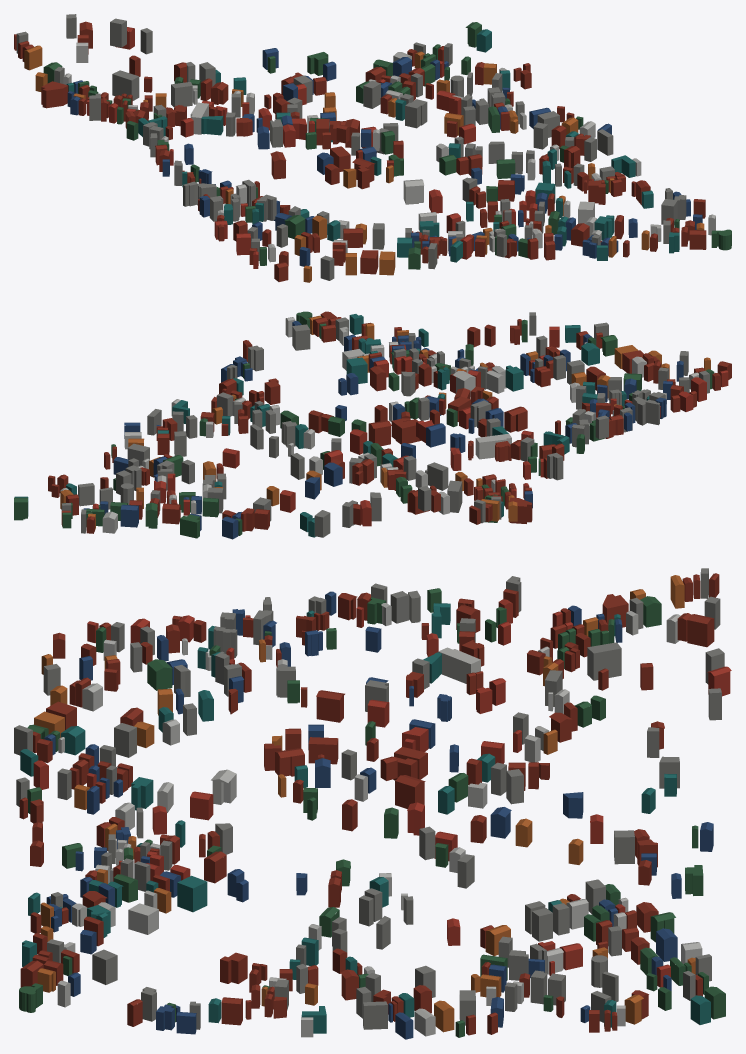
File: near-16-54719-29742.d23cf124.glb
The picture shows the model from 3 angles, top to bottom: view 1: azimuth 30°, elevation 25°; view 2: azimuth 150°, elevation 25°; view 3: azimuth 270°, elevation 25°; orthographic projection. The views are drawn at different scales.
Size of the model in its own units: 604 by 167 by 600.
